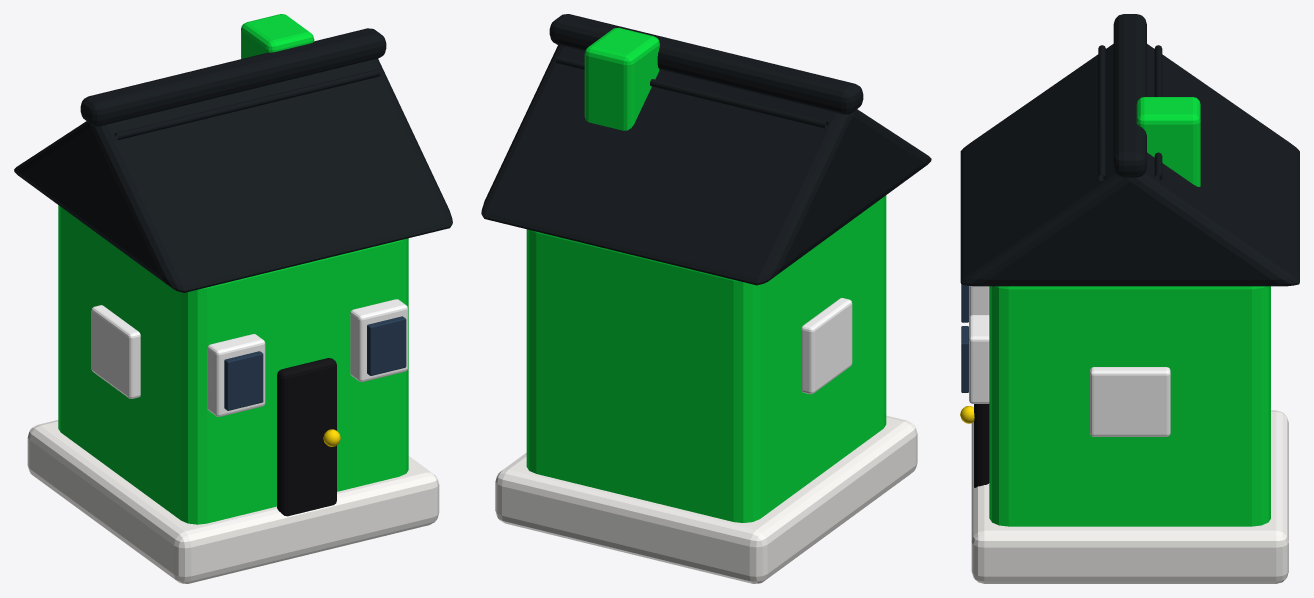
Rendered from house.glb.
3 views of the same model, side by side, from view 1: azimuth 30°, elevation 25°; view 2: azimuth 150°, elevation 25°; view 3: azimuth 270°, elevation 25° (orthographic). The views are drawn at different scales.
Visible parts, largest first — view 1: MBR_ASSET_house; view 2: MBR_ASSET_house; view 3: MBR_ASSET_house.
Part boxes in pixels (x1,y1,x2,y2): MBR_ASSET_house: (14,14,452,583); MBR_ASSET_house: (481,14,931,583); MBR_ASSET_house: (960,14,1299,583).
Size of the model in its own units: 0.27 by 0.3865 by 0.2656.
